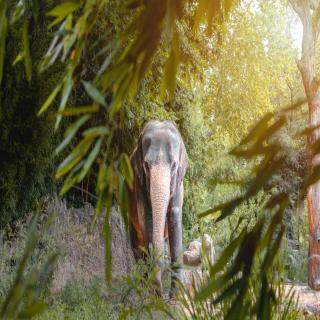Elephant: (121, 118, 192, 304)
